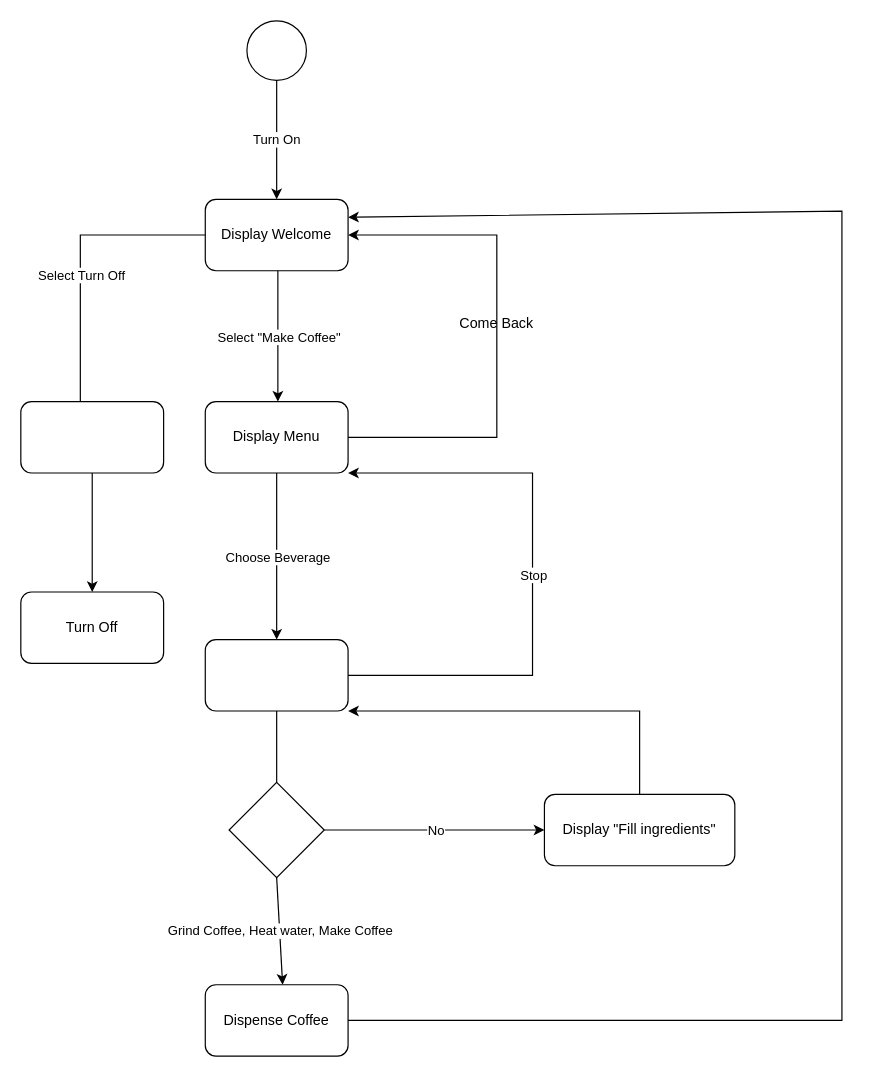
The diagram is 872 pixels wide and 1077 high, and some of its shapes have lost their labels. Here are the shapes that lost their labels. From the top down, the centre of each, then its label:
point 92,436: Clean Machine
point 276,674: Start Brewing
point 276,829: has all ingredients?
